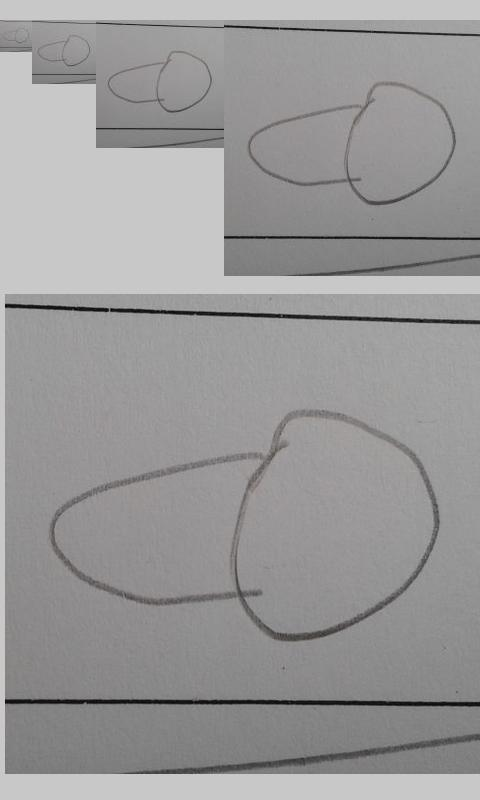switch: (47, 407, 444, 643), (246, 80, 458, 206), (106, 50, 213, 114), (36, 34, 91, 67), (1, 27, 30, 44)
